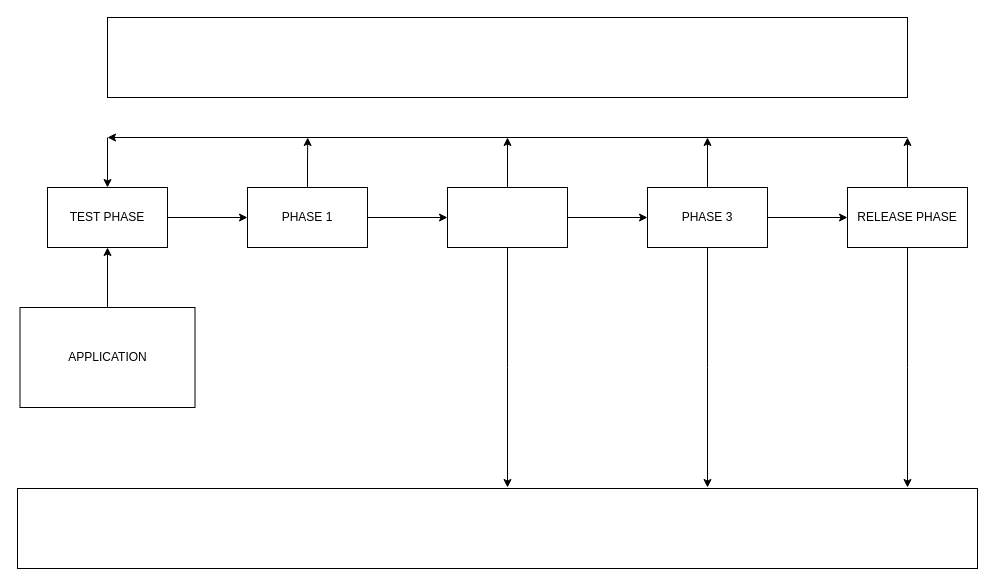
Image size: 995x586. Some labels were removed from this diagram. Here are the shapes that lost their labels. From the top down, the centre of each, then its label:
point (507, 57): TECH + RESEARCH & DEVELOPMENT
point (507, 217): PHASE 2
point (497, 528): BUSINESS
